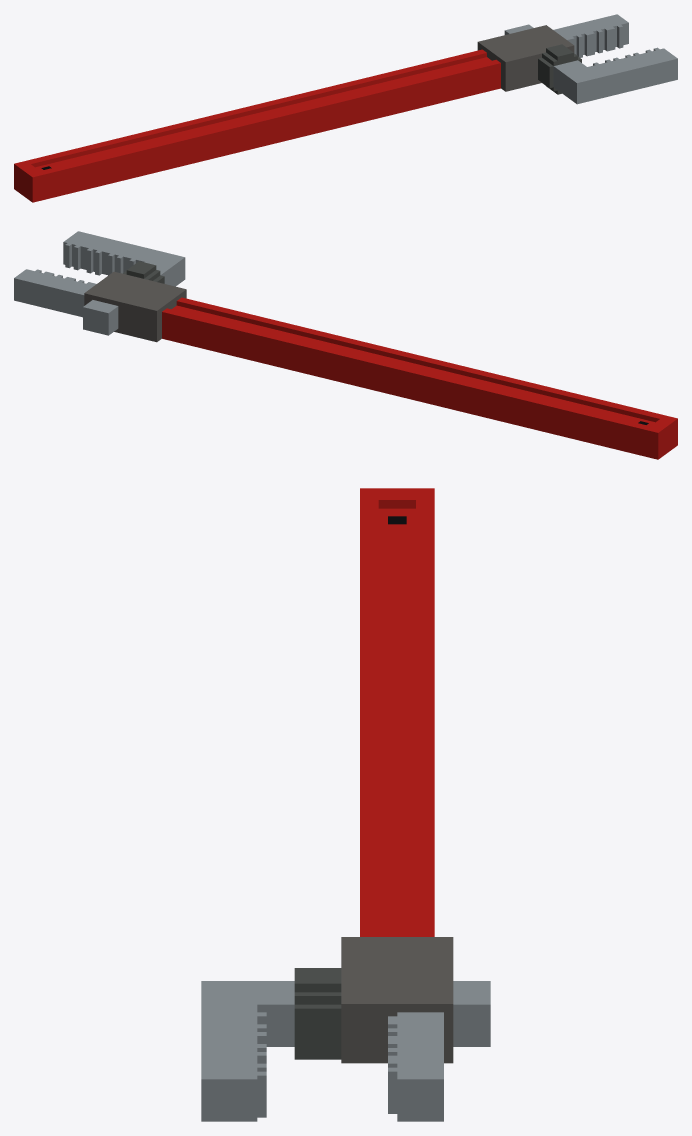
The model's file is wrench_48.glb.
3 views of the same model, one above another, from view 1: azimuth 30°, elevation 25°; view 2: azimuth 150°, elevation 25°; view 3: azimuth 270°, elevation 25° (orthographic). The views are drawn at different scales.
Visible parts, largest first — view 1: wrench_48:compound; view 2: wrench_48:compound; view 3: wrench_48:compound.
Part boxes in pixels (x1,y1,x2,y2): wrench_48:compound: [14, 14, 677, 202]; wrench_48:compound: [14, 231, 677, 459]; wrench_48:compound: [201, 488, 490, 1121].
Size of the model in its own units: 1.2 by 0.072 by 0.248.
